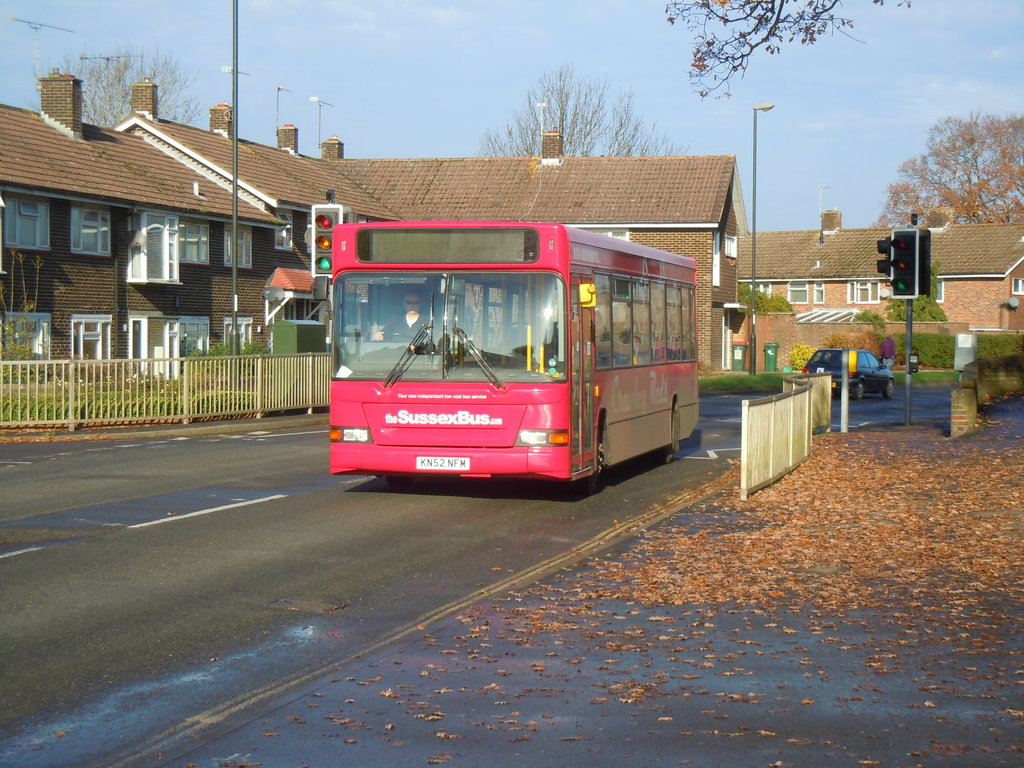Bus: (311, 214, 699, 489)
